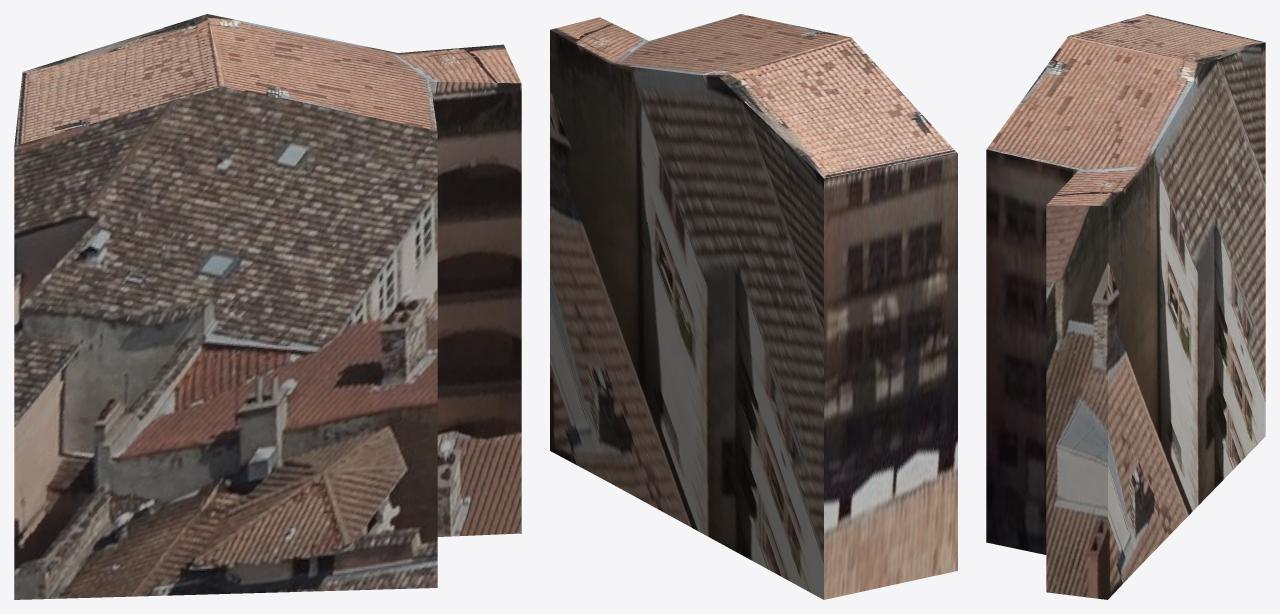
The picture shows the model from 3 angles, left to right: view 1: azimuth 30°, elevation 25°; view 2: azimuth 150°, elevation 25°; view 3: azimuth 270°, elevation 25°; orthographic projection. The views are drawn at different scales.
Visible parts, largest first — view 1: Z_UP; view 2: Z_UP; view 3: Z_UP.
Boxes of the visible parts, <box> form: Z_UP: <box>14,14,521,599</box>; Z_UP: <box>550,14,957,599</box>; Z_UP: <box>986,14,1265,599</box>.
Bounding box in the file's own units: 20.19 × 20.97 × 12.17.
2 materials, 1 textured.
